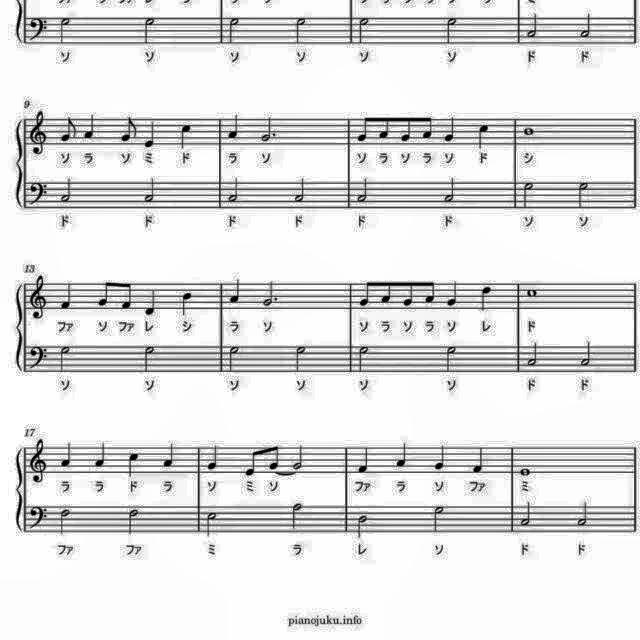Bass-clef: (26, 13, 50, 43), (28, 177, 52, 207), (26, 341, 49, 371), (28, 503, 50, 532)
Eighth-note: (116, 114, 140, 146), (58, 112, 78, 144), (356, 276, 374, 310), (355, 113, 373, 147), (95, 276, 113, 308), (118, 280, 134, 314), (378, 112, 394, 144), (400, 276, 416, 308), (242, 444, 258, 476), (398, 114, 414, 146), (266, 441, 282, 472), (420, 114, 436, 144), (378, 276, 394, 306), (422, 277, 438, 305)
Full-note: (524, 284, 540, 300), (519, 125, 537, 138), (518, 466, 534, 478)
Half-dot: (261, 276, 281, 308), (262, 115, 282, 147)
Half-note: (428, 503, 448, 535), (572, 498, 592, 530), (140, 14, 160, 46), (140, 176, 160, 208), (576, 338, 596, 370), (574, 180, 594, 212), (524, 338, 544, 369), (125, 504, 144, 536), (288, 500, 306, 532), (520, 180, 538, 212), (441, 343, 459, 375), (141, 342, 159, 374), (57, 14, 75, 46), (576, 10, 594, 42), (224, 342, 242, 374), (291, 14, 309, 46), (518, 499, 536, 529), (224, 174, 242, 204), (524, 11, 542, 41), (443, 174, 461, 204), (203, 509, 221, 538), (442, 14, 458, 46), (58, 341, 74, 373), (356, 342, 372, 374), (58, 506, 74, 538), (292, 342, 308, 374), (356, 12, 372, 44), (226, 12, 242, 44), (353, 512, 371, 540), (354, 174, 371, 203), (60, 175, 76, 205), (292, 177, 308, 207), (290, 442, 306, 471)
Quarter-note: (58, 279, 76, 313), (204, 440, 222, 472), (141, 119, 159, 151), (92, 438, 110, 470), (354, 444, 372, 476), (471, 444, 489, 476), (161, 441, 179, 472), (80, 113, 98, 143), (478, 284, 496, 314), (224, 113, 242, 143), (177, 121, 195, 151), (394, 438, 411, 469), (442, 114, 458, 146), (142, 288, 158, 320), (58, 437, 74, 469), (432, 441, 448, 473), (446, 277, 462, 309), (228, 275, 244, 305), (126, 448, 142, 478), (476, 122, 492, 150), (181, 288, 197, 316)
Treble-clef: (24, 272, 48, 320), (25, 108, 47, 156), (26, 435, 48, 483)
